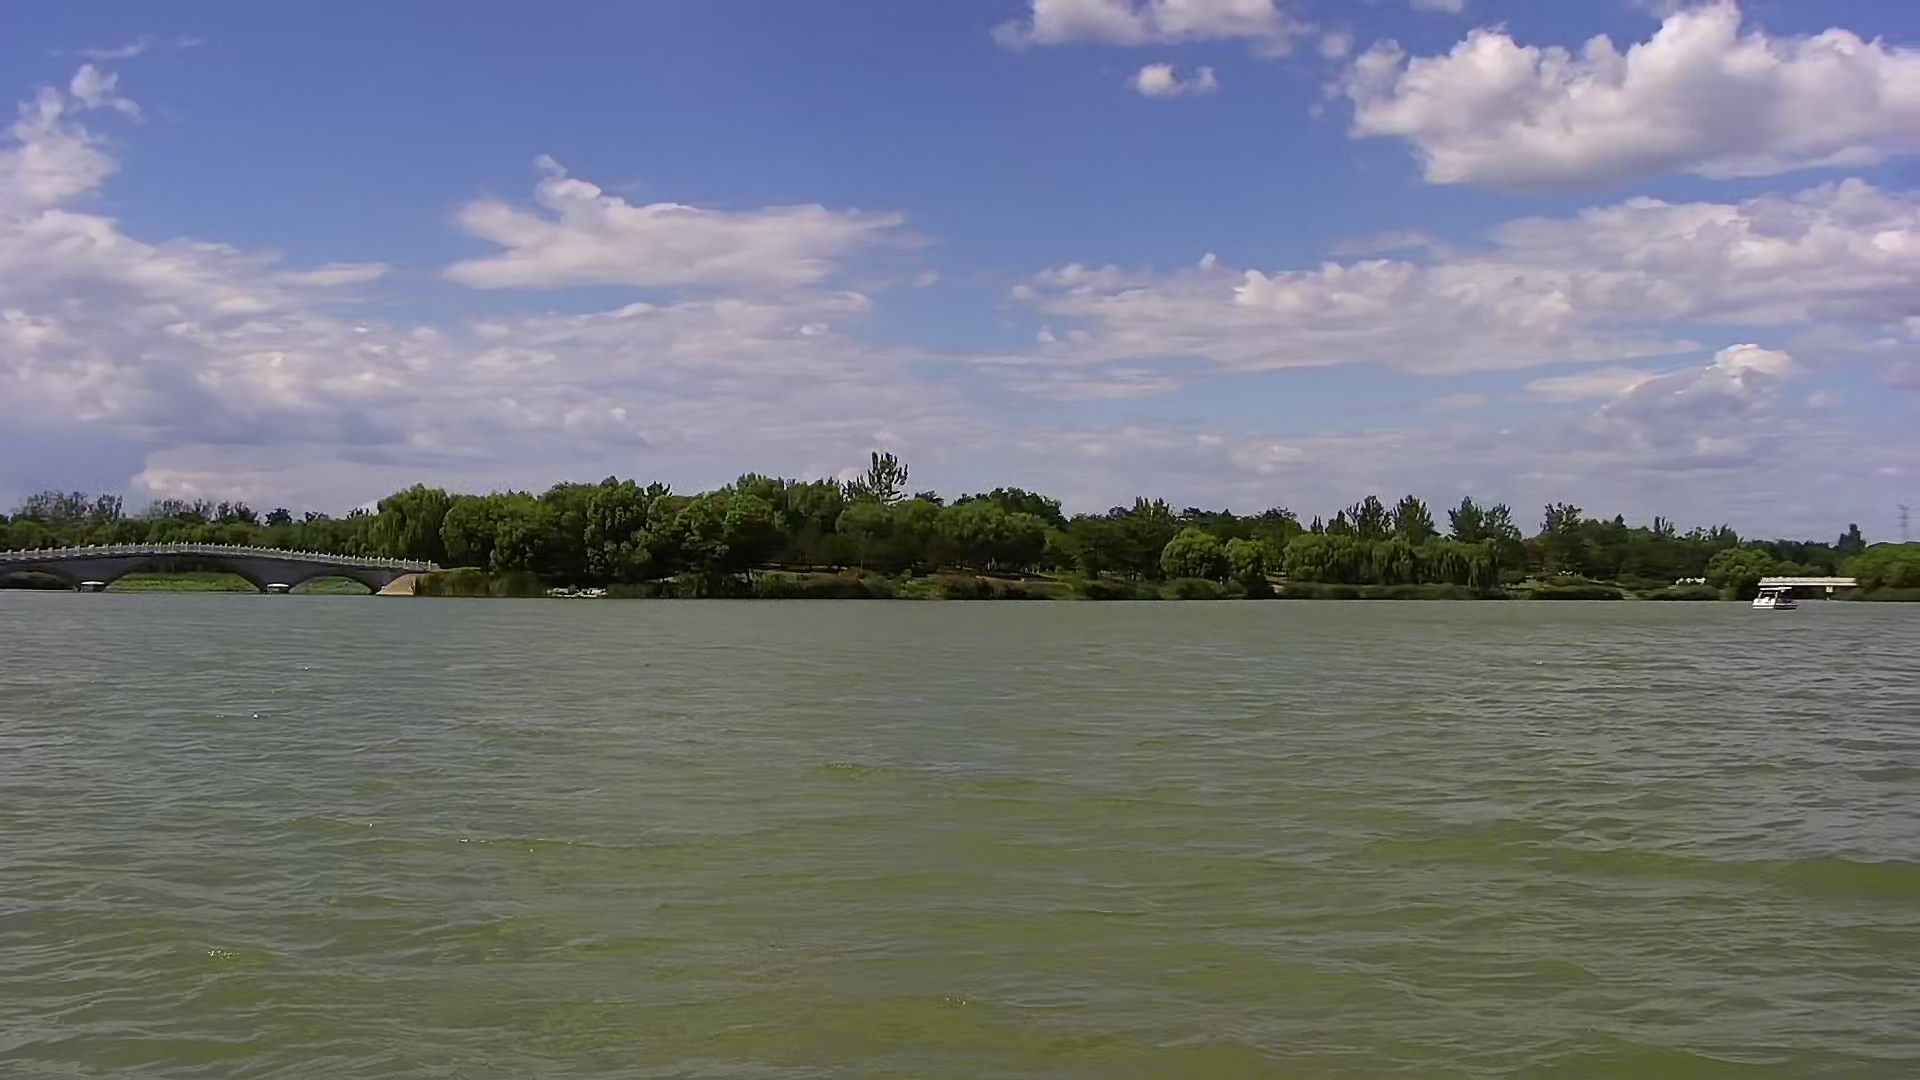boat: (1742, 564, 1803, 621)
bridge: (1, 529, 458, 599)
